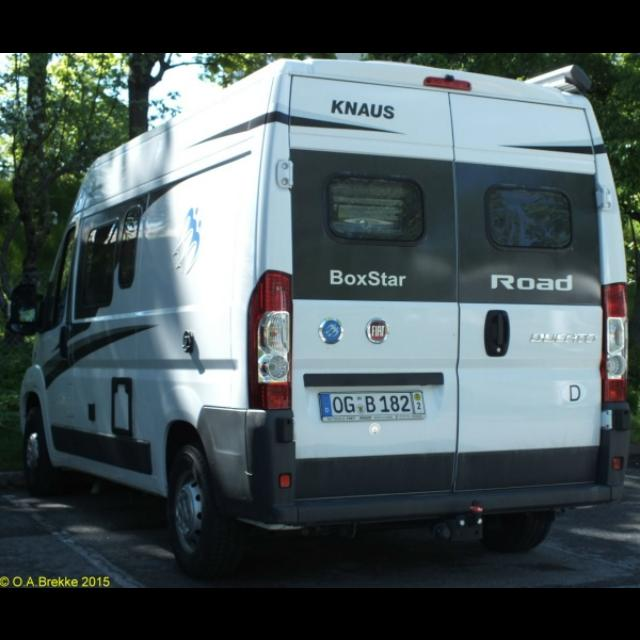d_license_plate: (318, 390, 424, 414)
